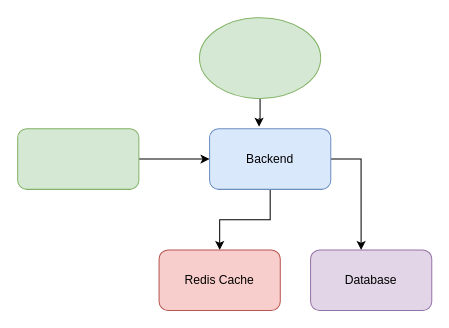
Image size: 449x328. Some labels were removed from this diagram. The shapes that lost their labels are listed below. From the top down, each one's centre as x and y in pixels, then its label:
pixel 259 57: If cache Not found, Call database
pixel 78 158: Frontend
